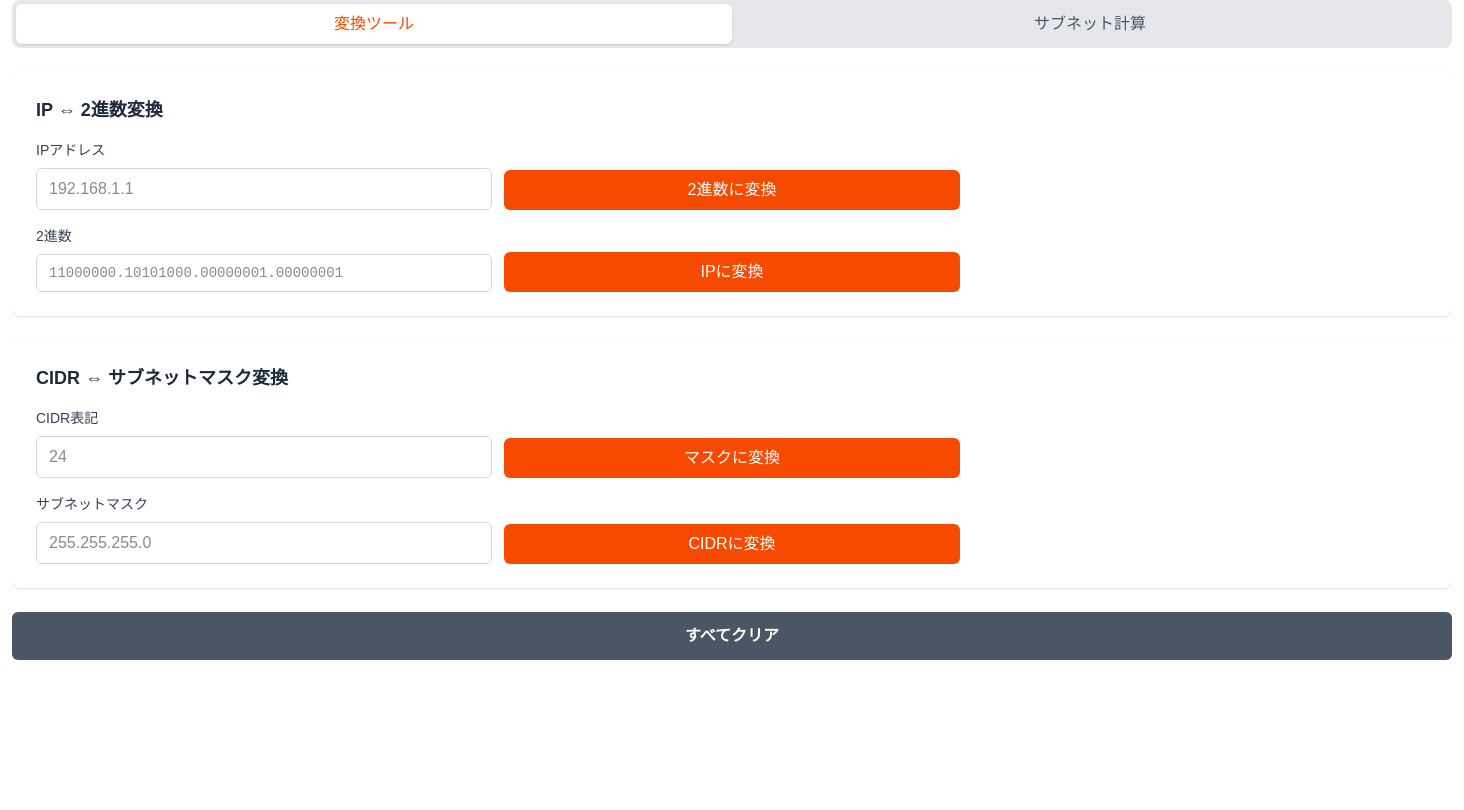
Test: Calculator Component › モード切り替え › サブネット計算モードに切り替えできる
Click the button "サブネット計算". click: (1090, 24)
box: 732,4 -> 1448,44
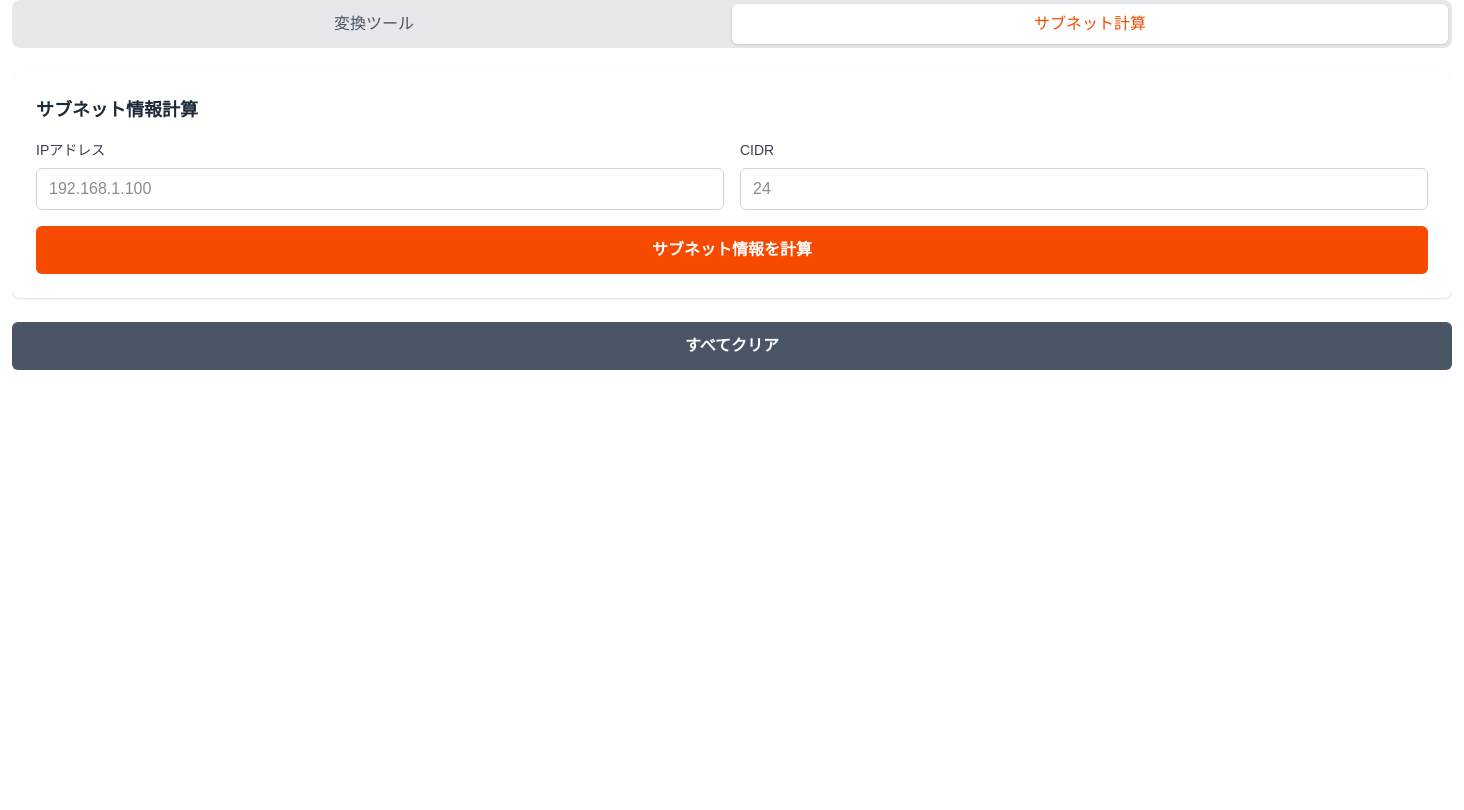
expect the heading "サブネット情報計算" is shown: met, box 36,100 -> 198,120
expect the field with placeholder "192.168.1.100" is shown: met, box 36,168 -> 724,210
expect the number field with placeholder "24" is shown: met, box 740,168 -> 1428,210
